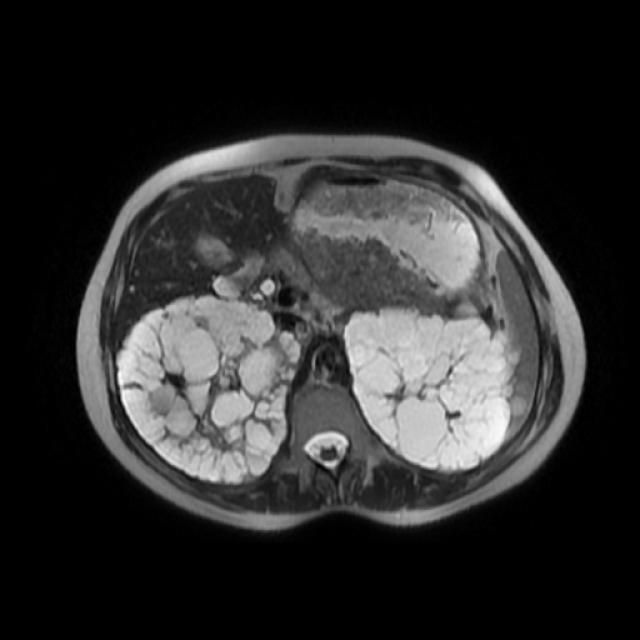sag: (114, 293, 306, 486)
sol: (342, 302, 531, 476)
